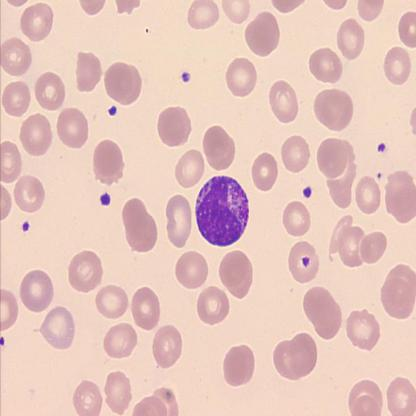Metamyelocyte: (193, 173, 251, 250)
